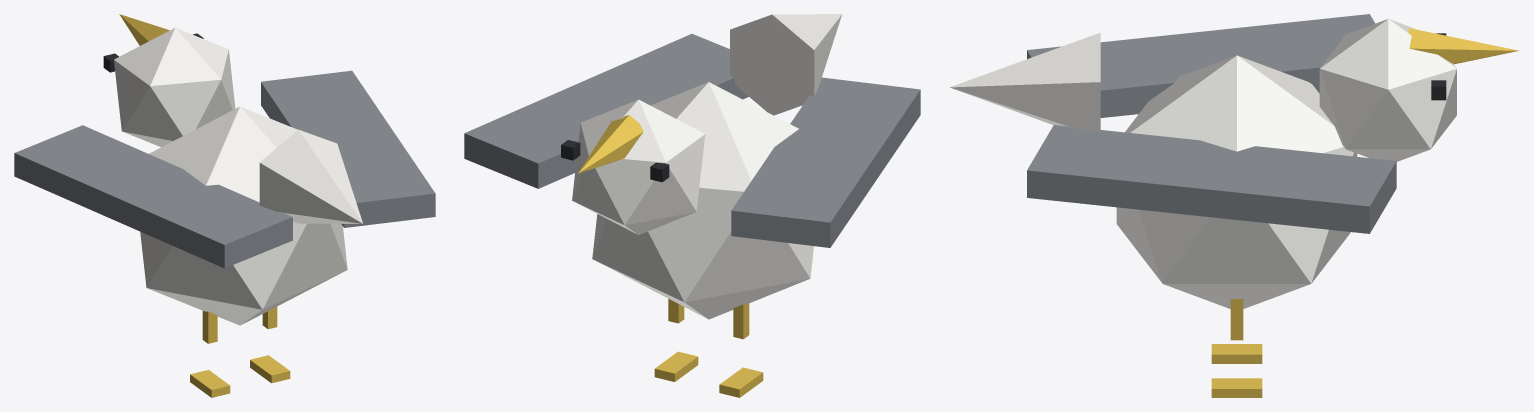
File: prop.seagull.glb
3 renders of one model, left to right at view 1: azimuth 30°, elevation 25°; view 2: azimuth 150°, elevation 25°; view 3: azimuth 270°, elevation 25°, orthographic. The views are drawn at different scales.
Parts seen in each view (by area): view 1: prop.seagull; view 2: prop.seagull; view 3: prop.seagull.
Boxes of the visible parts, left/top/right/bottom form: prop.seagull: left=14, top=14, right=435, bottom=397; prop.seagull: left=464, top=14, right=920, bottom=397; prop.seagull: left=950, top=14, right=1519, bottom=397.
Bounding box in the file's own units: 0.9028 × 0.78 × 1.13.
